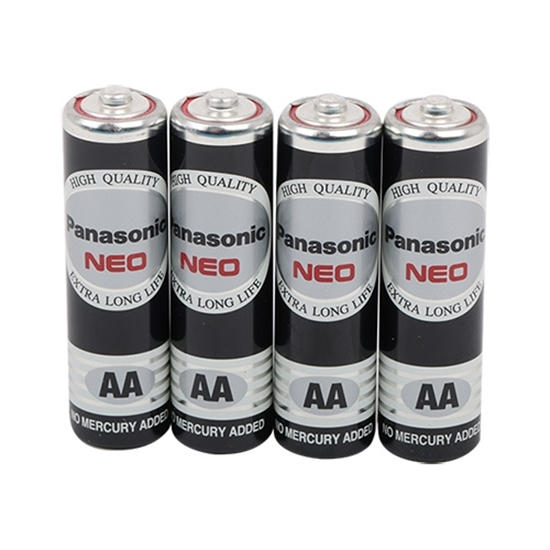Battery: (377, 92, 492, 465), (271, 92, 383, 462), (61, 83, 170, 452), (169, 86, 273, 455)
